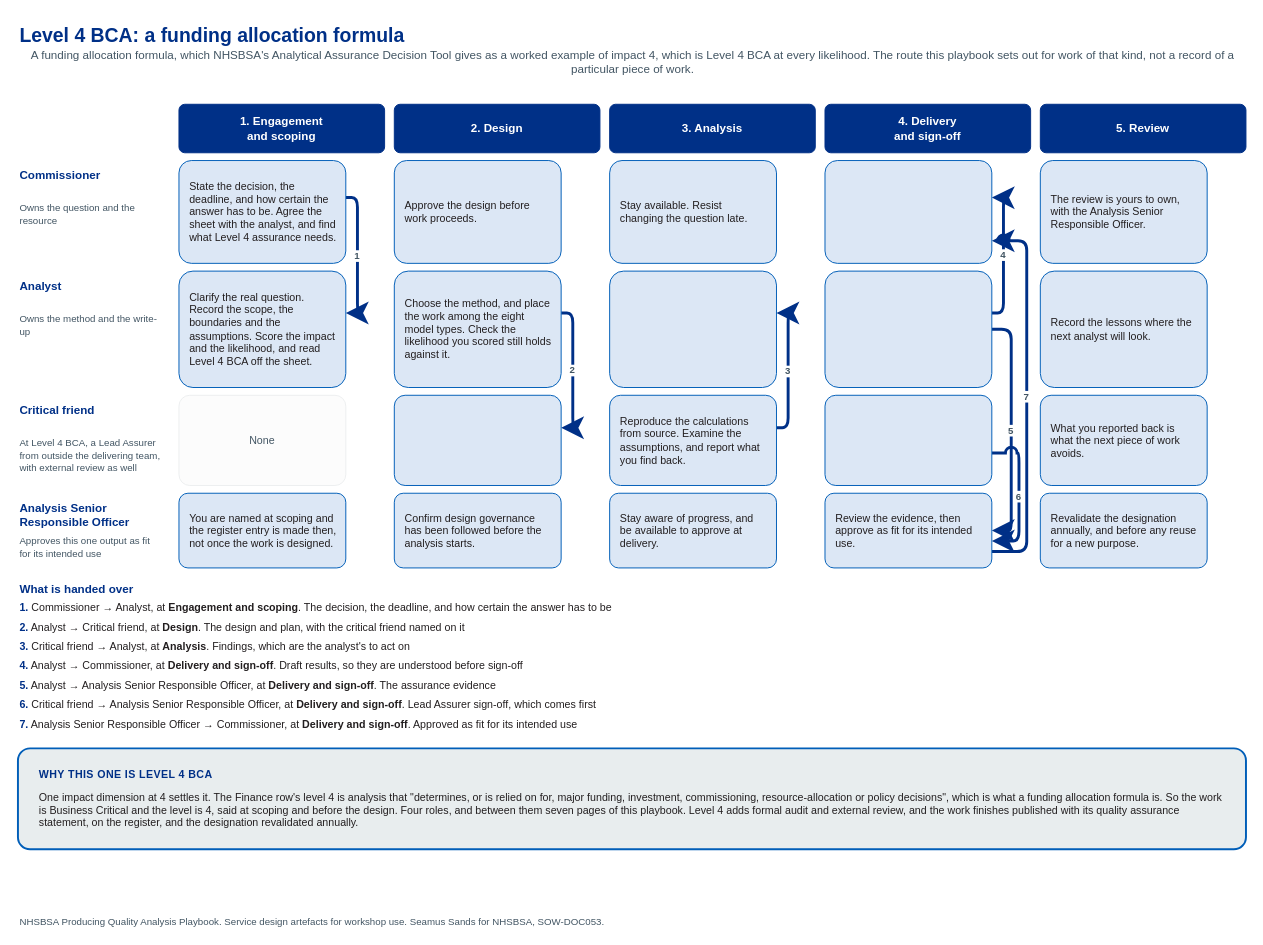
Some shapes in this 1263 by 945 pixel diagram are drawn without their labels. Here are the shapes that lost their labels. From the top down, the centre of each, then its label:
At [908,211]: "Confirm it meets your need and apply its limitations.".
At [692,329]: "Do your own checks first. Log decisions as you go, and quantify the uncertainty.".
At [908,329]: "Write it up, with the caveats in the output itself.".
At [477,439]: "You are named at design, not found at delivery.".
At [908,439]: "Sign off as Lead Assurer, which comes before the approval below.".
